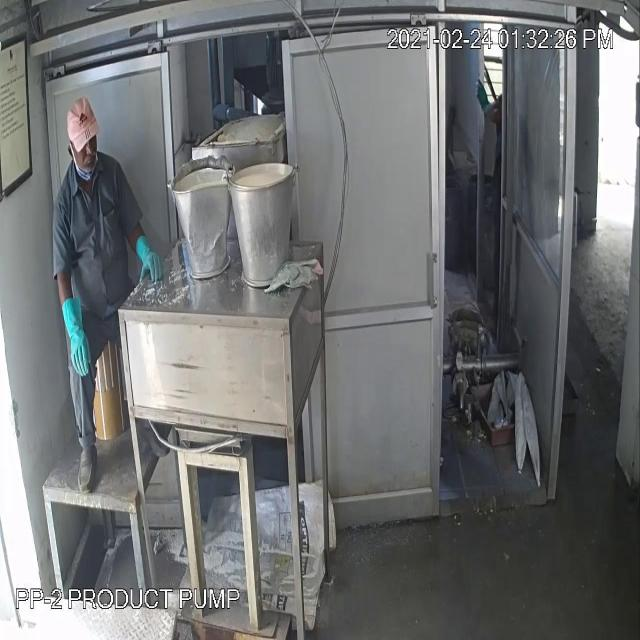no-helmet: (60, 87, 110, 159)
